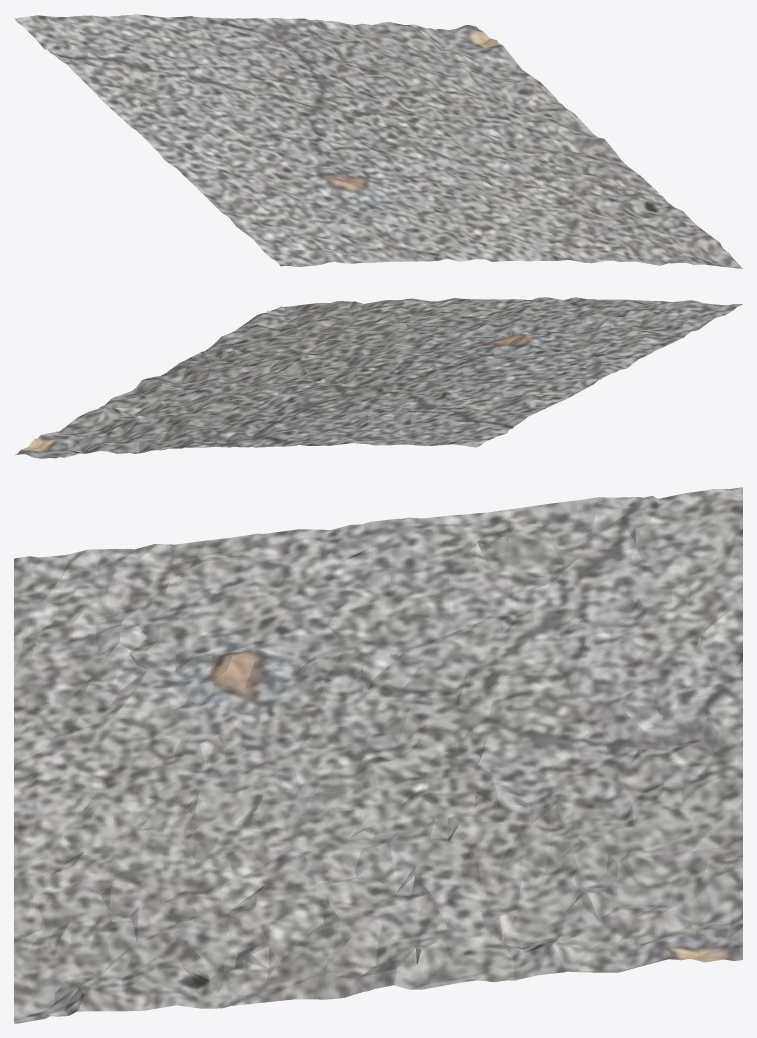
3 renders of one model, top to bottom at view 1: azimuth 30°, elevation 25°; view 2: azimuth 150°, elevation 25°; view 3: azimuth 270°, elevation 25°, orthographic. The views are drawn at different scales.
Bounding box in the file's own units: 0.8374 × 0.2897 × 0.8373.
3 materials, 3 textured.
